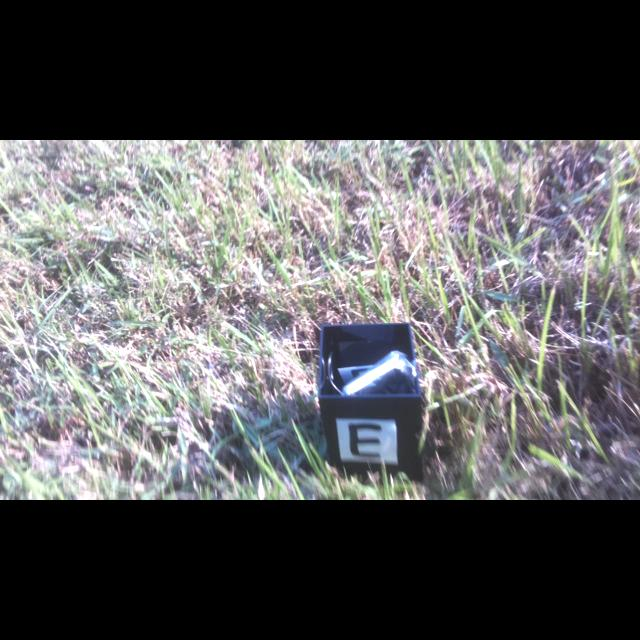E: (348, 423, 381, 458)
